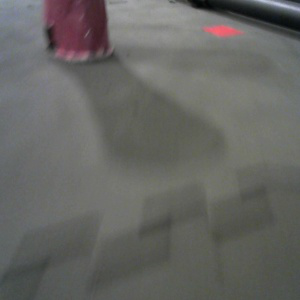right: (44, 1, 115, 63)
